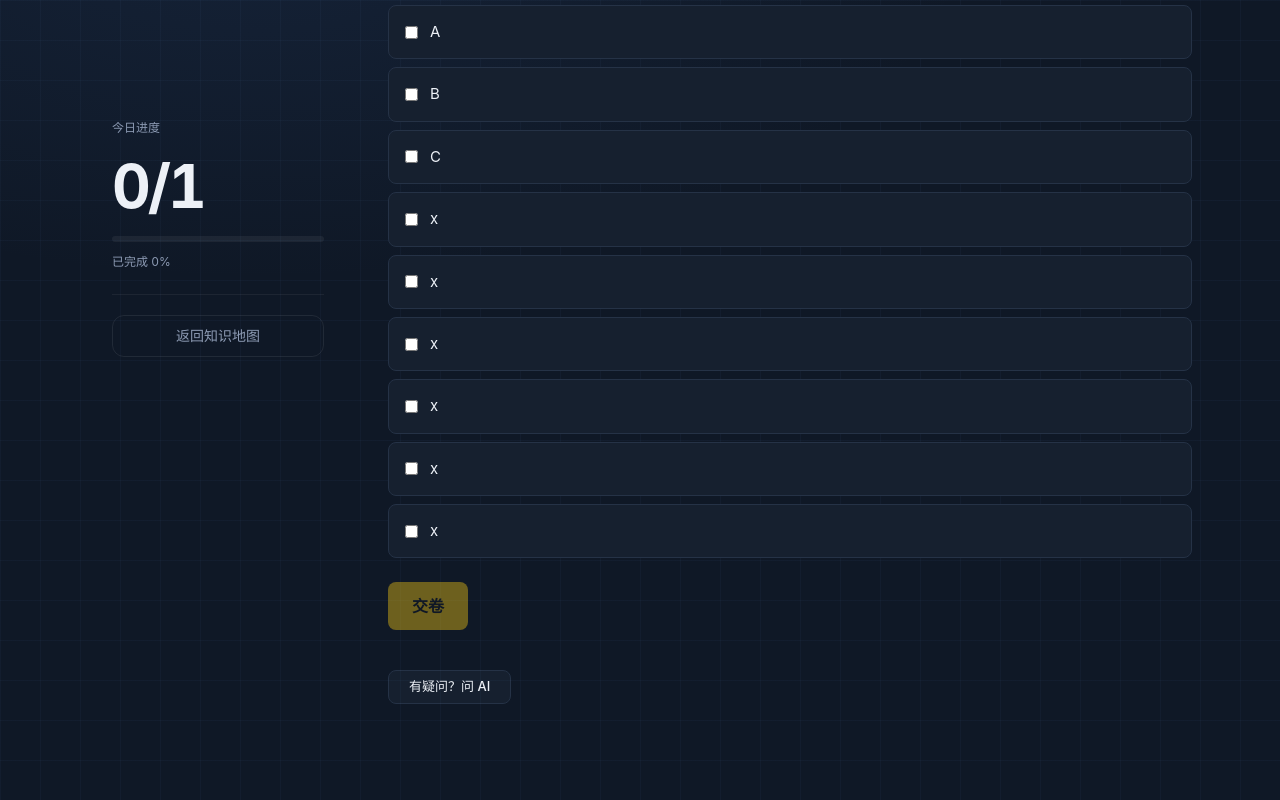
流中途报错：已吐出的部分保留在屏上，错误进 role=alert
(page scrolled)
Click the button "有疑问？问 AI" at (450, 687), box [388, 670, 511, 704]
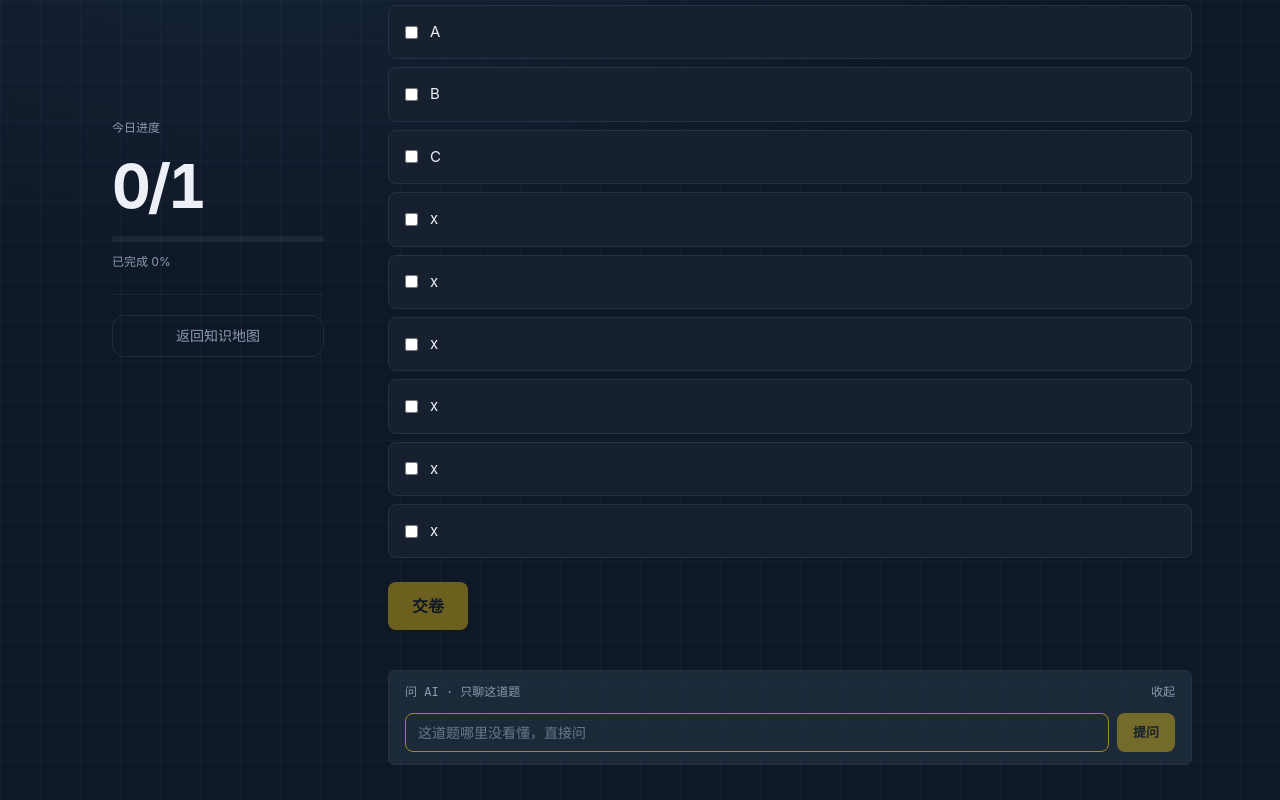
Type "会断的问题" into the field named "向 AI 提问" at (757, 733), box [405, 713, 1109, 752]
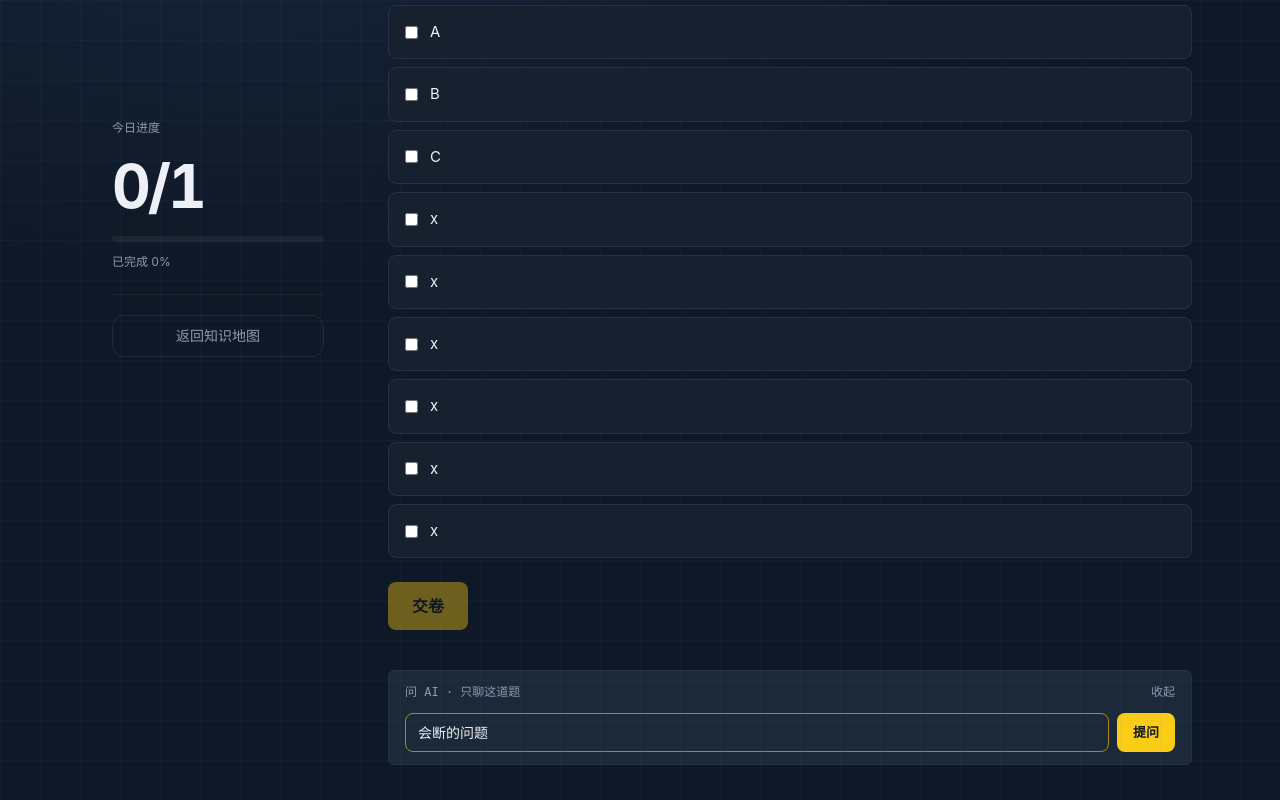
Click the button "提问" at (1146, 733), box [1117, 713, 1175, 752]
(page scrolled)
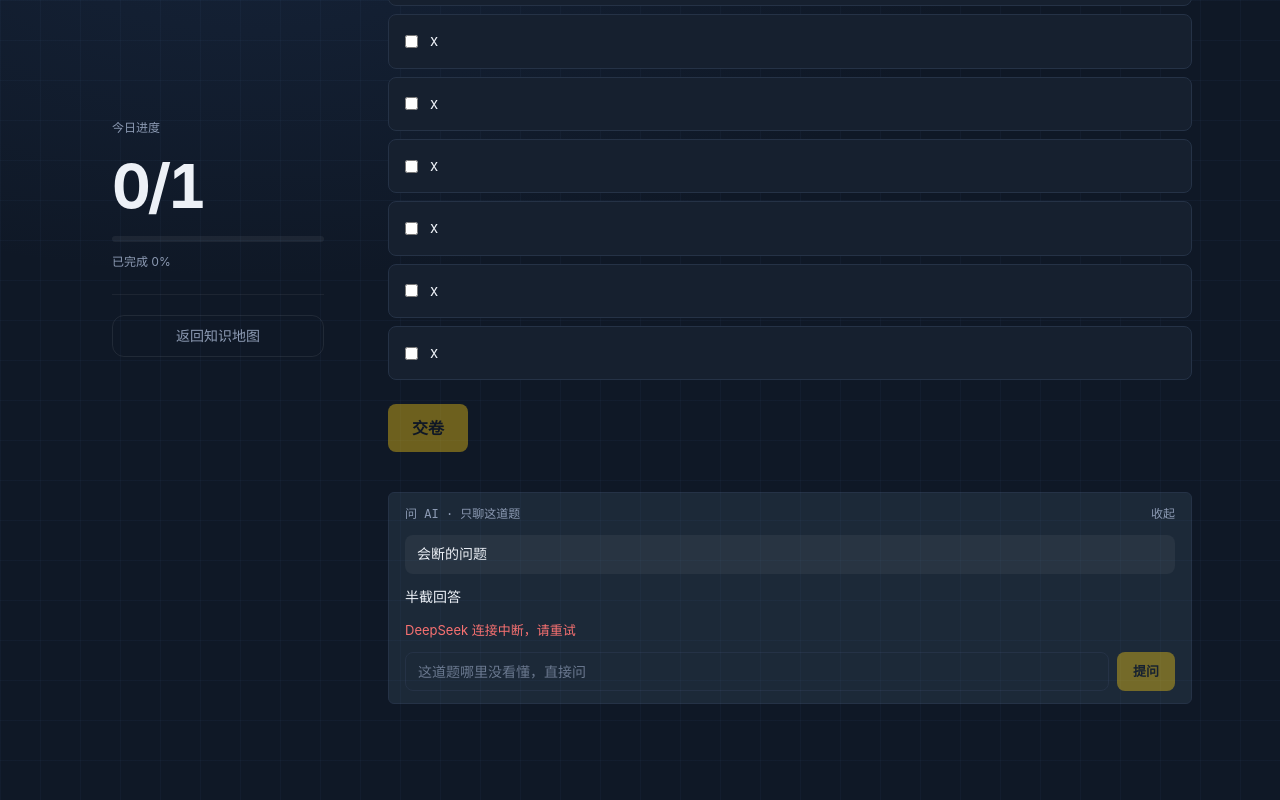
Expected: the message reads "DeepSeek 连接中断，请重试", [405, 622, 576, 638]
Expected: the text "半截回答" is shown, [405, 588, 461, 605]
Expected: the field named "向 AI 提问" is empty, [405, 652, 1109, 691]
